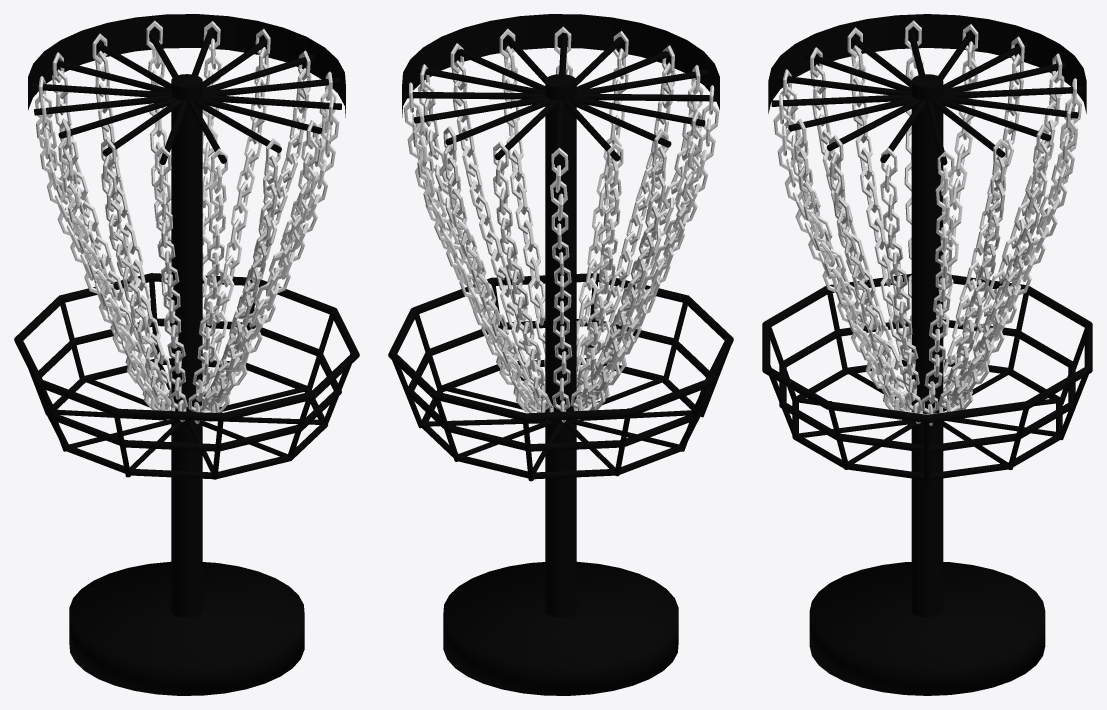
Rendered from basket.glb.
3 renders of one model, left to right at view 1: azimuth 30°, elevation 25°; view 2: azimuth 150°, elevation 25°; view 3: azimuth 270°, elevation 25°, orthographic.
Parts seen in each view (by area): view 1: Chains, Base, TopRim, Basket, Pole; view 2: Chains, Base, TopRim, Basket, Pole; view 3: Chains, Base, TopRim, Basket, Pole.
Boxes of the visible parts, x1=… form: Chains: x1=35, y1=20, x2=339, y2=424; Base: x1=69, y1=561, x2=304, y2=695; TopRim: x1=28, y1=14, x2=345, y2=164; Basket: x1=14, y1=273, x2=359, y2=479; Pole: x1=171, y1=74, x2=202, y2=617; Chains: x1=403, y1=26, x2=719, y2=422; Base: x1=443, y1=561, x2=678, y2=695; TopRim: x1=402, y1=14, x2=719, y2=165; Basket: x1=388, y1=273, x2=733, y2=481; Pole: x1=545, y1=74, x2=576, y2=617; Chains: x1=773, y1=20, x2=1081, y2=425; Base: x1=809, y1=562, x2=1045, y2=695; TopRim: x1=768, y1=14, x2=1086, y2=165; Basket: x1=762, y1=273, x2=1092, y2=481; Pole: x1=911, y1=74, x2=943, y2=617.
Bounding box in the file's own units: 0.8833 × 1.59 × 0.84.
2 materials, 1 textured.
